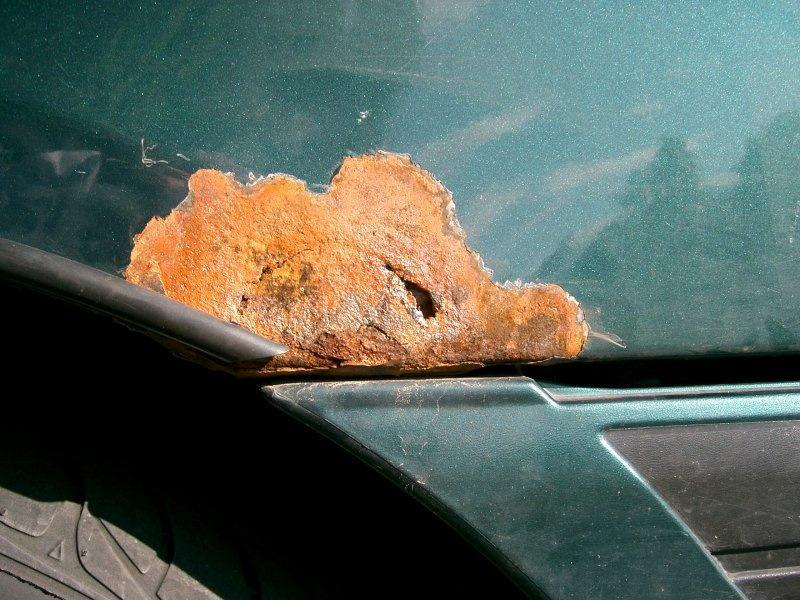corrosion: (126, 153, 590, 374)
